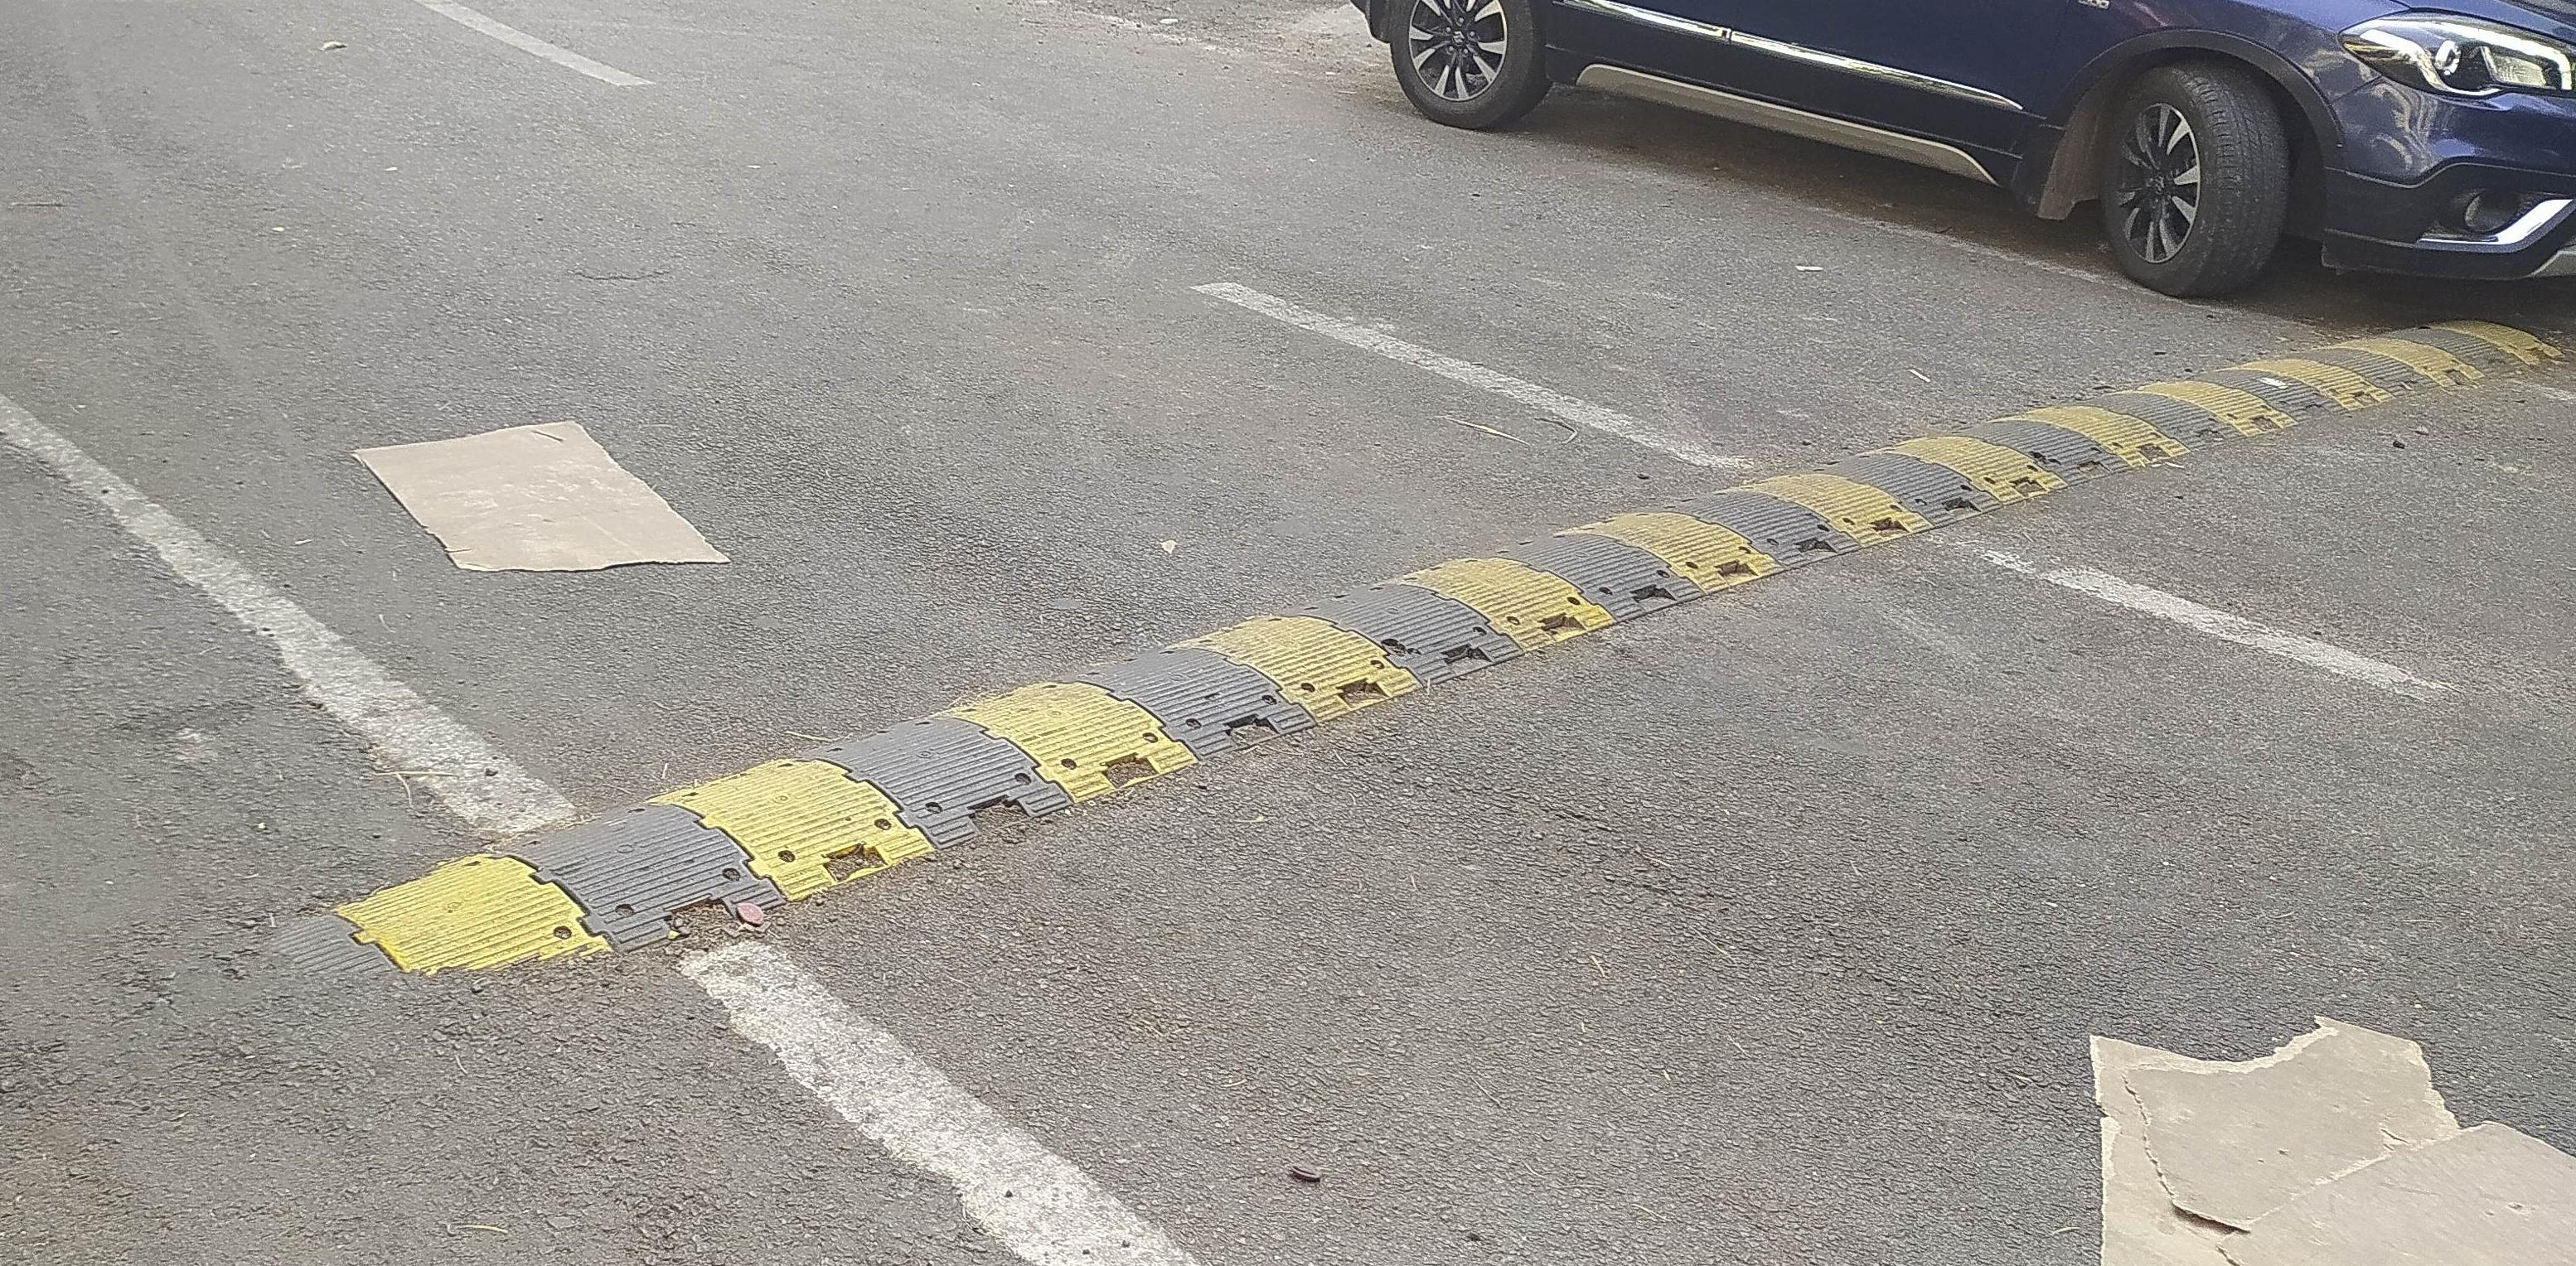speed-bump: (5, 306, 2576, 1128)
